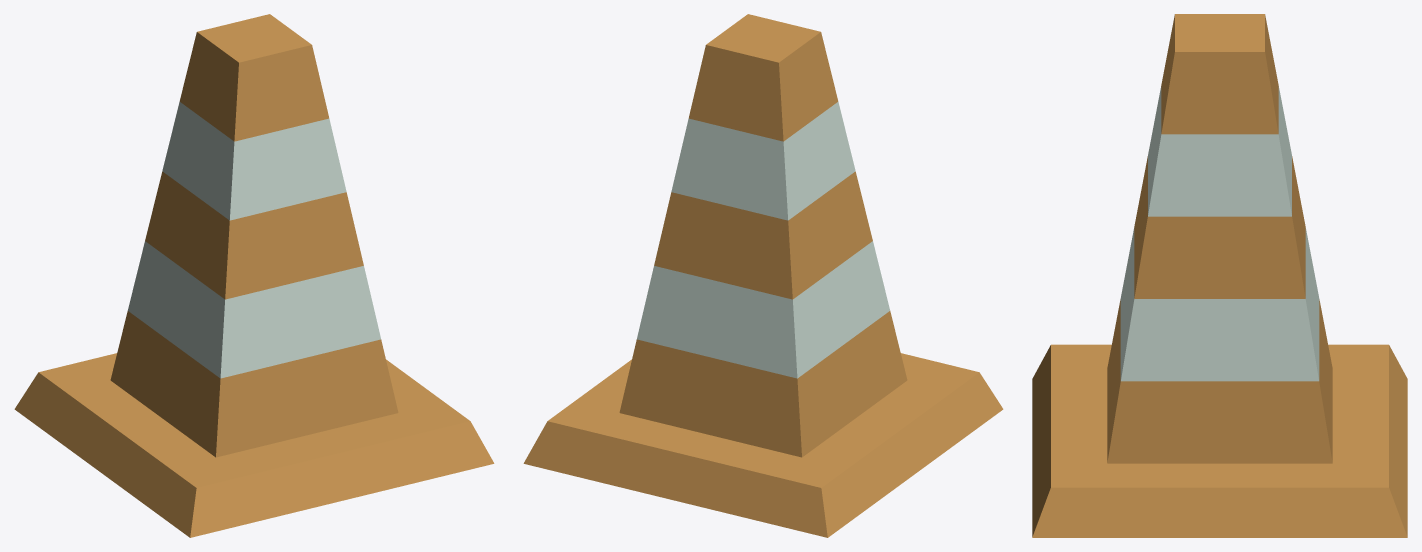
3 views of the same model, side by side, from view 1: azimuth 30°, elevation 25°; view 2: azimuth 150°, elevation 25°; view 3: azimuth 270°, elevation 25° (orthographic). The views are drawn at different scales.
Parts seen in each view (by area): view 1: Cube.002; view 2: Cube.002; view 3: Cube.002.
Part boxes in pixels (left/top/right/bottom): Cube.002: left=14, top=14, right=494, bottom=537; Cube.002: left=523, top=14, right=1003, bottom=537; Cube.002: left=1032, top=14, right=1407, bottom=537.
Bounding box in the file's own units: 80 × 100 × 80.
